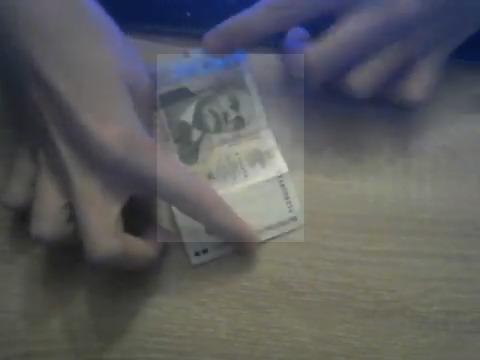10leva: (157, 54, 304, 242)
